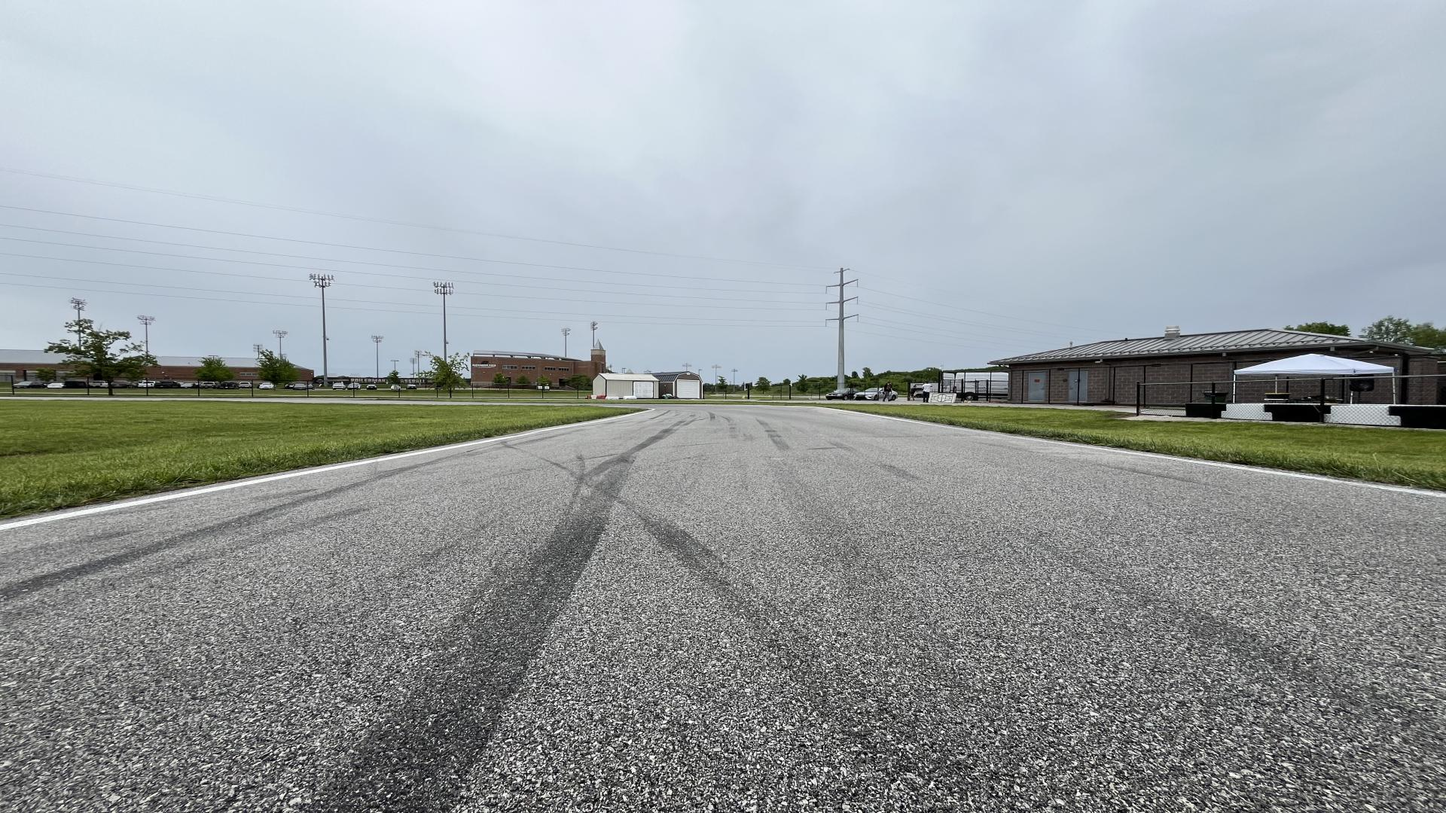white-line: (0, 489, 194, 531), (1237, 462, 1445, 498), (188, 462, 365, 495), (1084, 443, 1250, 469), (950, 424, 1094, 450), (822, 406, 959, 430), (359, 448, 441, 466), (440, 435, 515, 451), (512, 424, 574, 438), (571, 413, 631, 427), (630, 408, 655, 416), (284, 401, 328, 404), (742, 404, 805, 406), (605, 406, 654, 408), (453, 404, 502, 406), (371, 403, 420, 405), (328, 402, 372, 404), (419, 404, 454, 406), (148, 397, 182, 399), (147, 399, 178, 401), (501, 404, 531, 406), (623, 403, 652, 405), (0, 396, 27, 398), (122, 397, 148, 399), (802, 406, 827, 408), (694, 404, 743, 405), (232, 398, 278, 399), (72, 397, 94, 399), (566, 405, 606, 406), (582, 403, 602, 405), (244, 401, 283, 402), (531, 405, 566, 406), (650, 403, 667, 405), (212, 400, 244, 401), (48, 399, 79, 400), (665, 404, 695, 405), (93, 397, 122, 398), (182, 398, 210, 399), (123, 400, 149, 401), (23, 399, 49, 400), (48, 397, 73, 398), (209, 398, 234, 399), (600, 403, 624, 404), (0, 399, 23, 400), (26, 397, 49, 398), (102, 400, 124, 401), (543, 403, 565, 404), (563, 403, 584, 404), (177, 400, 212, 400), (78, 400, 103, 400)
